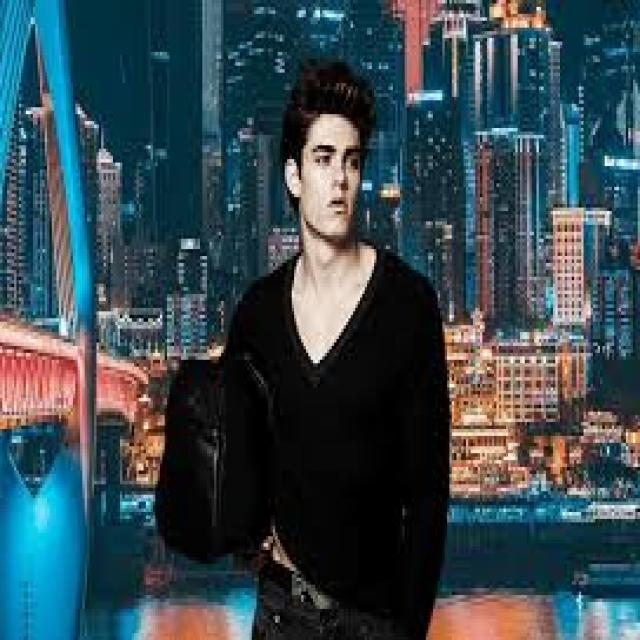Edited images: (210, 30, 448, 640)
